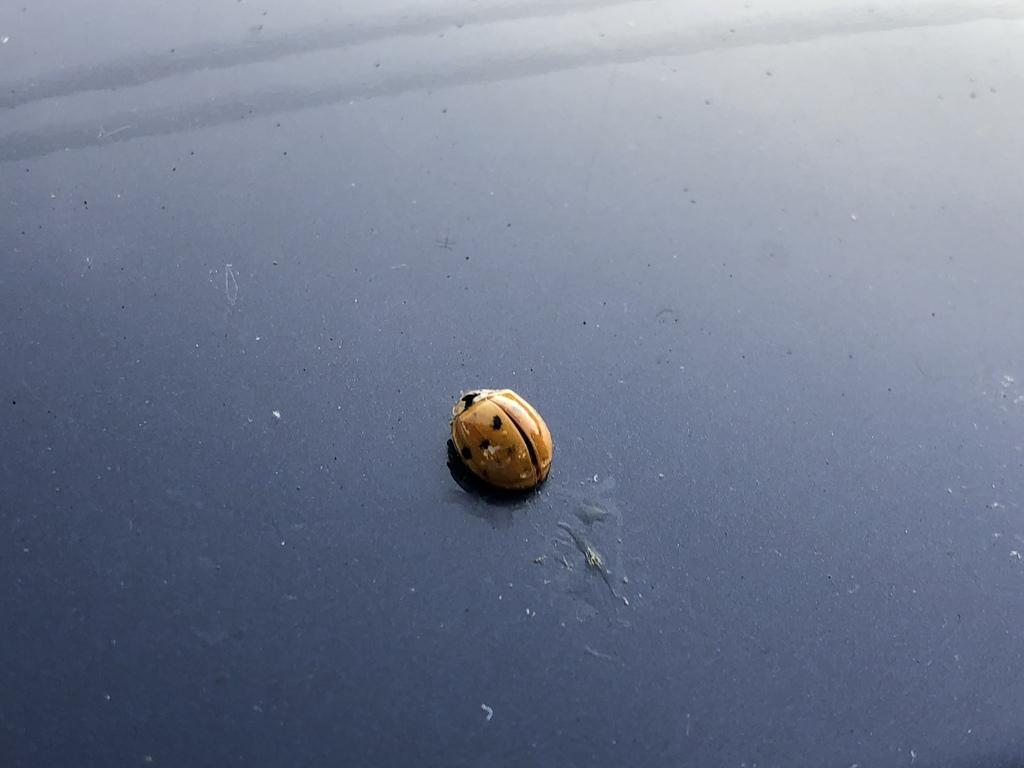ladybug: (449, 385, 561, 499)
